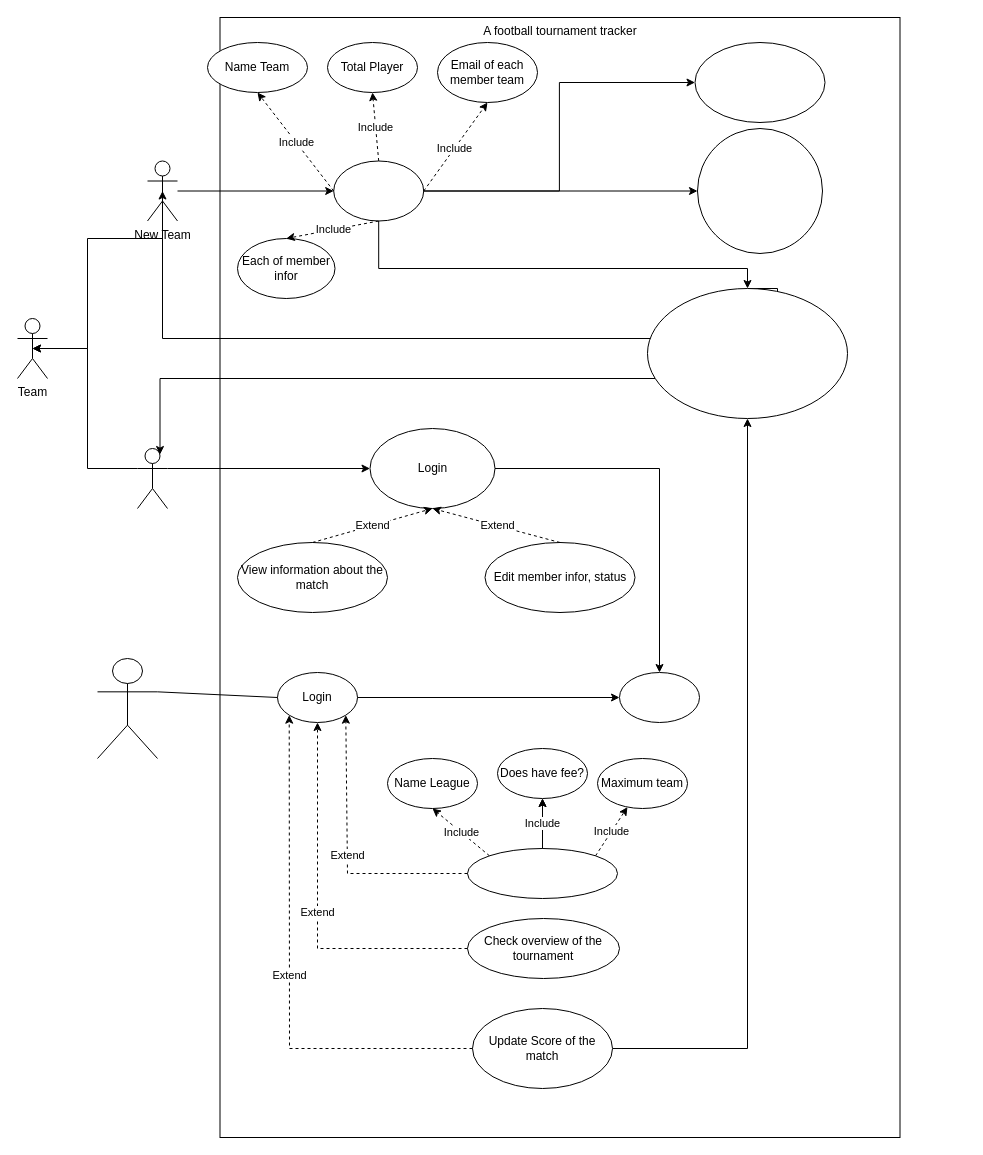
Some shapes in this 983 by 1155 pixel diagram are drawn without their labels. Here are the shapes that lost their labels. From the top down, the centre of each, then its label:
point 759,82: Check valid name team, email
point 378,190: Register
point 759,191: Check if there are any slots left in the tournament?
point 747,353: email about creating an account successfully or an update on the match score.
point 152,478: Registerd team
point 127,708: tournament organizers
point 659,697: Verify login
point 542,873: Create a tournament,
